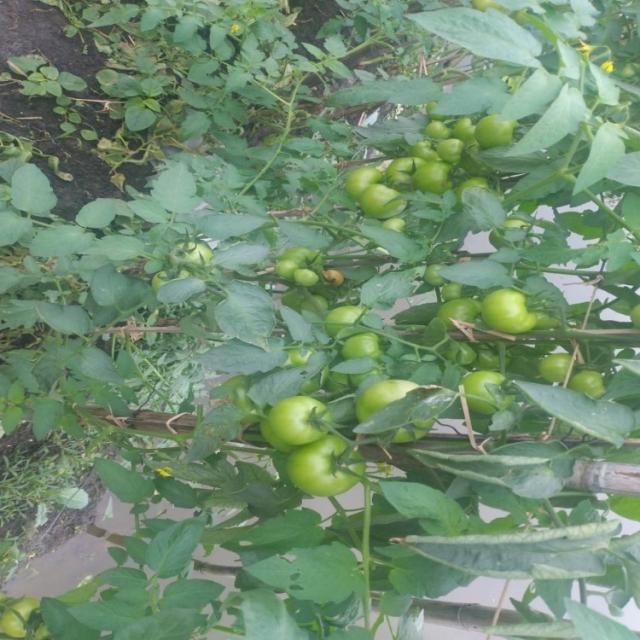tomato: (266, 425, 399, 515), (242, 381, 346, 443), (460, 365, 520, 421), (489, 283, 543, 339), (359, 185, 419, 227), (3, 585, 44, 640), (472, 107, 515, 150), (383, 147, 431, 185), (349, 386, 416, 413), (419, 159, 460, 200), (344, 164, 387, 198), (336, 328, 380, 360), (322, 296, 360, 333), (433, 295, 482, 322), (284, 266, 327, 291), (172, 237, 210, 265), (418, 121, 450, 147), (435, 142, 469, 165), (150, 266, 187, 287), (455, 121, 481, 147), (422, 261, 444, 283)
